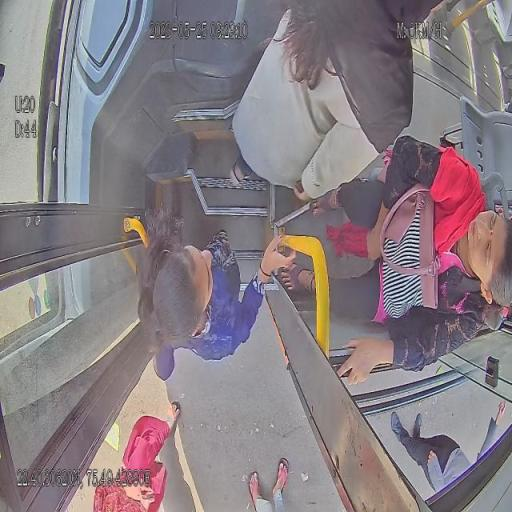persona: (278, 134, 512, 386), (229, 1, 444, 204), (122, 201, 296, 382), (390, 400, 506, 494), (93, 400, 181, 511), (244, 457, 289, 511)
